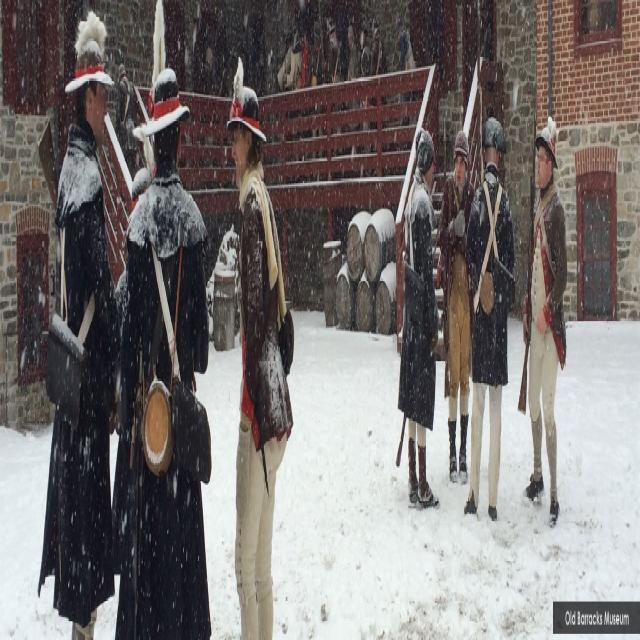body: (112, 0, 213, 638), (35, 4, 124, 638), (223, 52, 296, 638), (462, 110, 516, 524), (177, 0, 290, 195), (521, 112, 569, 532), (111, 164, 155, 602), (402, 126, 441, 514), (438, 126, 476, 485), (392, 16, 414, 176), (284, 19, 304, 183), (295, 23, 312, 183), (117, 62, 139, 182), (346, 20, 361, 180), (358, 23, 372, 182), (478, 2, 496, 69), (368, 15, 386, 77), (310, 20, 324, 86), (326, 18, 336, 44)
